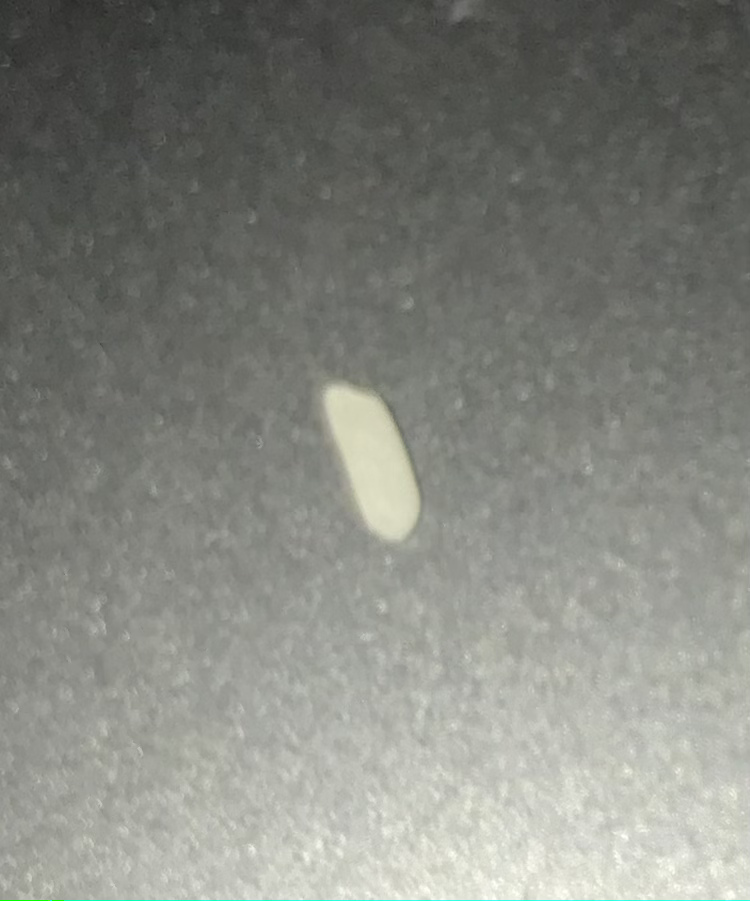Gao Tam Thom: (320, 359, 435, 557)
